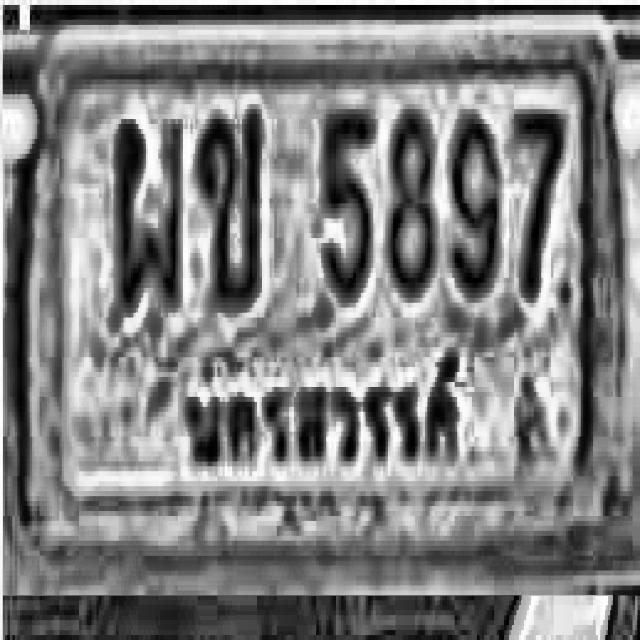license-plate: (20, 0, 629, 580)
